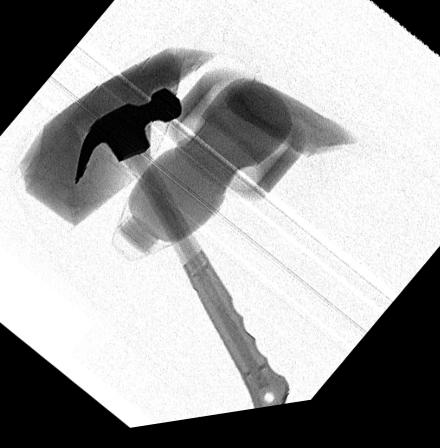Hammer: (74, 92, 290, 417)
